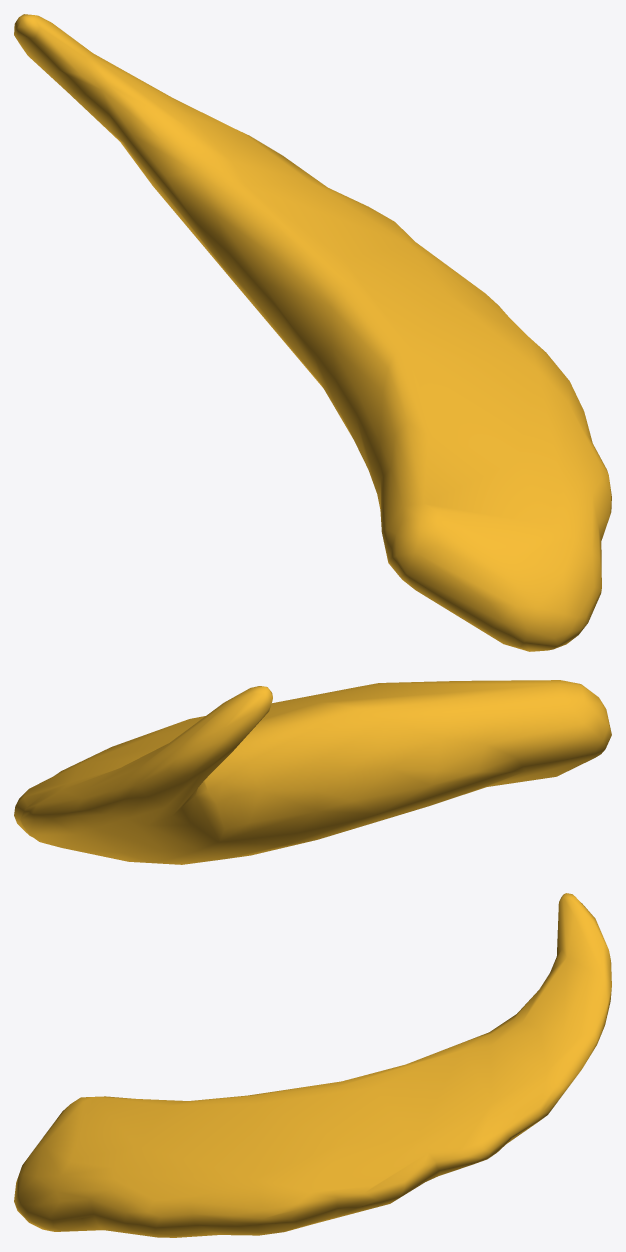
The model's file is nervoso-hippocampus-l.glb.
The picture shows the model from 3 angles, top to bottom: view 1: azimuth 30°, elevation 25°; view 2: azimuth 150°, elevation 25°; view 3: azimuth 270°, elevation 25°; orthographic projection. The views are drawn at different scales.
Parts seen in each view (by area): view 1: Hippocampus.l; view 2: Hippocampus.l; view 3: Hippocampus.l.
Part boxes in pixels (box(x1,y1,x2,y2)): Hippocampus.l: box(14, 14, 611, 651); Hippocampus.l: box(14, 680, 611, 864); Hippocampus.l: box(14, 893, 611, 1237).
Size of the model in its own units: 0.0194 by 0.0213 by 0.0416.
